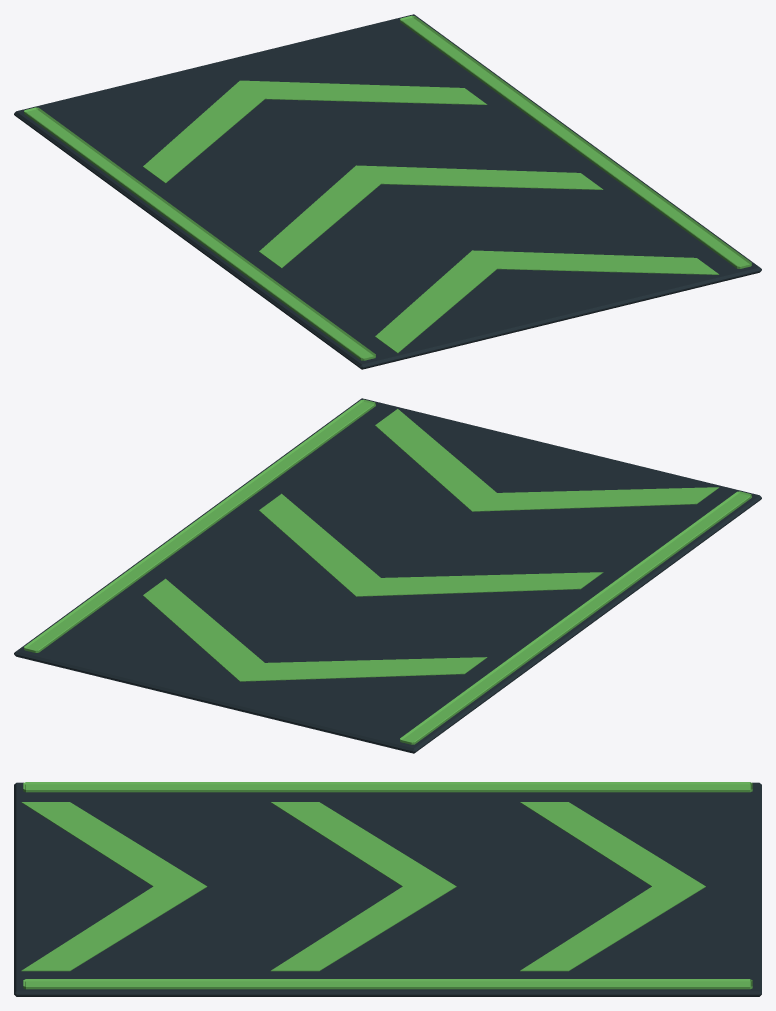
Rendered from prop_boostpad.glb.
3 renders of one model, top to bottom at view 1: azimuth 30°, elevation 25°; view 2: azimuth 150°, elevation 25°; view 3: azimuth 270°, elevation 25°, orthographic. The views are drawn at different scales.
Visible parts, largest first — view 1: prop_boostpad__Pad; view 2: prop_boostpad__Pad; view 3: prop_boostpad__Pad.
Boxes of the visible parts, x1,y1,x2,y2 form: prop_boostpad__Pad: (14, 14, 761, 369); prop_boostpad__Pad: (14, 398, 761, 753); prop_boostpad__Pad: (14, 782, 761, 996).
Size of the model in its own units: 4 by 0.071 by 6.
